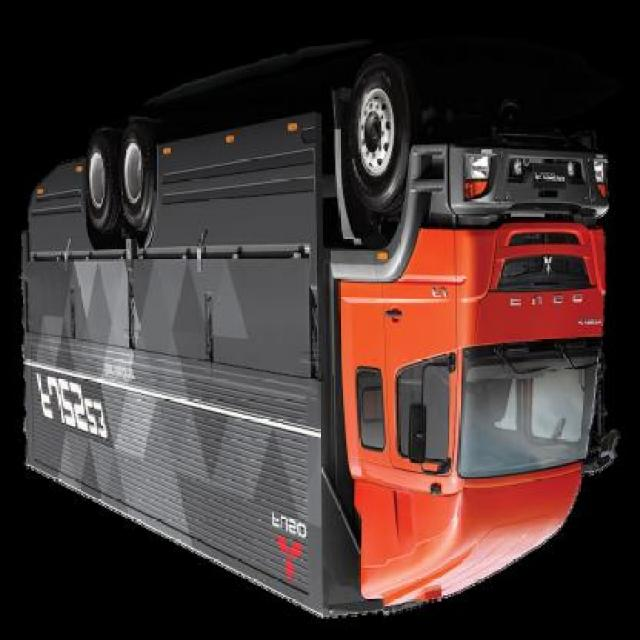truck: (22, 55, 619, 616)
